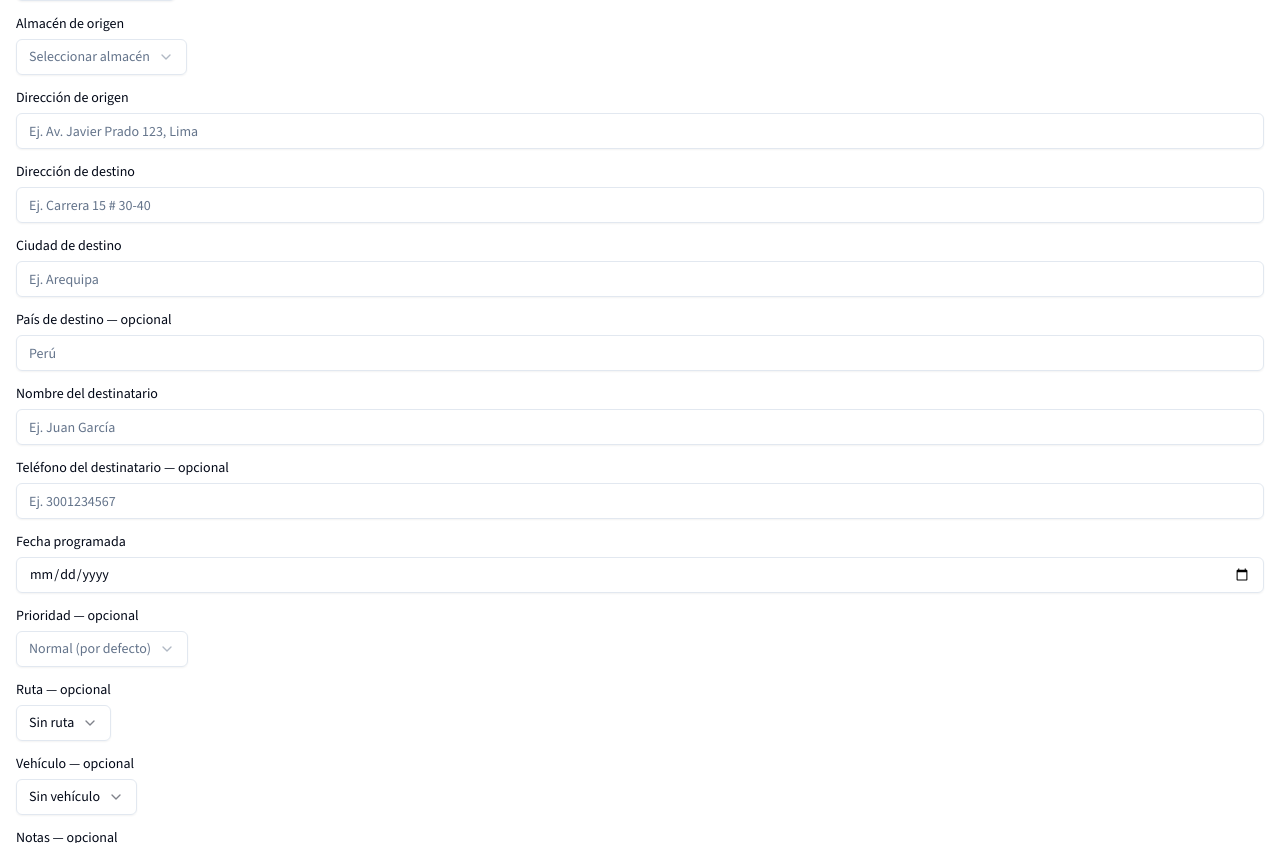
ShipmentCreateForm — validation › shows error when recipient_name is empty on submit
Type "Calle 123" into the field with placeholder "Ej. Av. Javier Prado 123, Lima" at (640, 131), box [16, 113, 1264, 149]
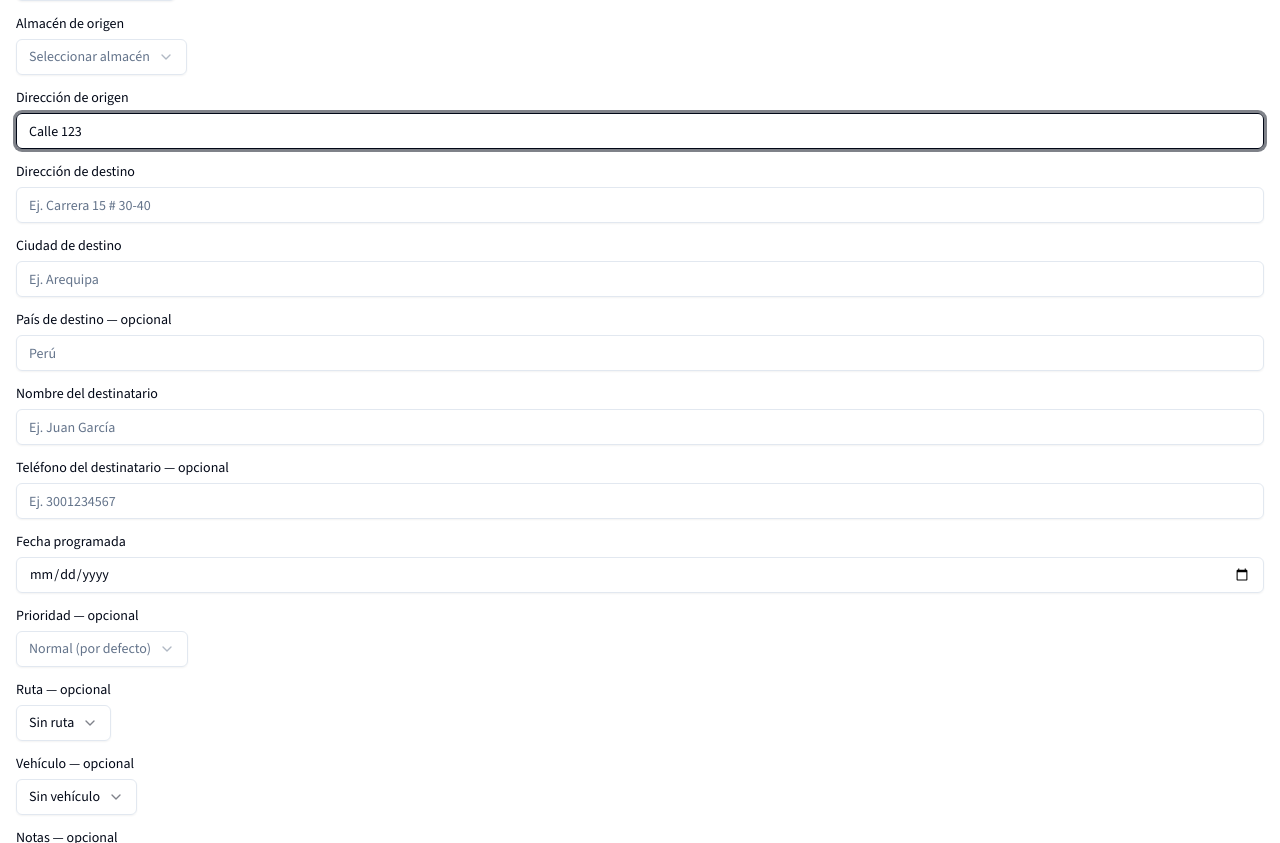
Type "Av. 456" into the field with placeholder "Ej. Carrera 15 # 30-40" at (640, 205), box [16, 187, 1264, 223]
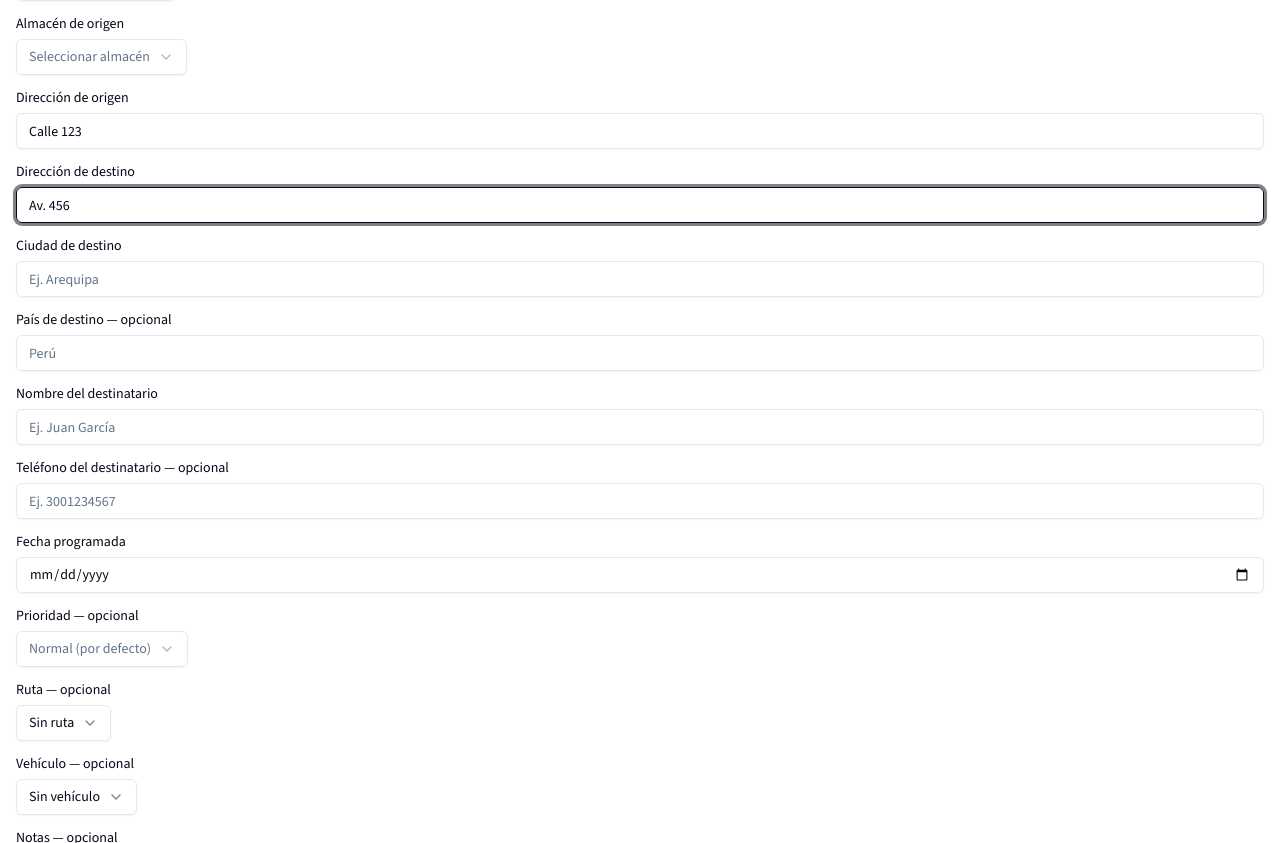
Type "Medellín" into the field with placeholder "Ej. Arequipa" at (640, 279), box [16, 261, 1264, 297]
(page scrolled)
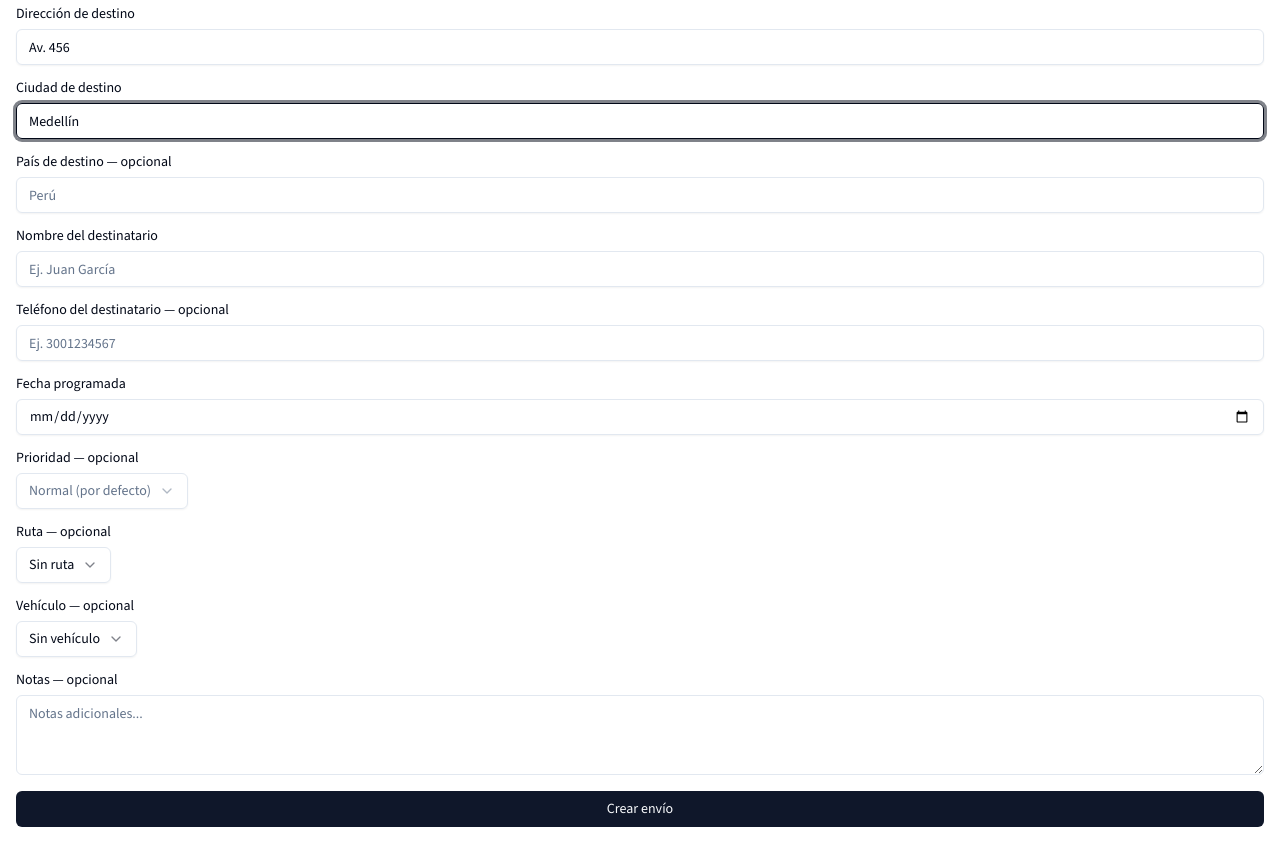
Click the button "Crear envío" at (640, 809), box [16, 791, 1264, 827]
(page scrolled)
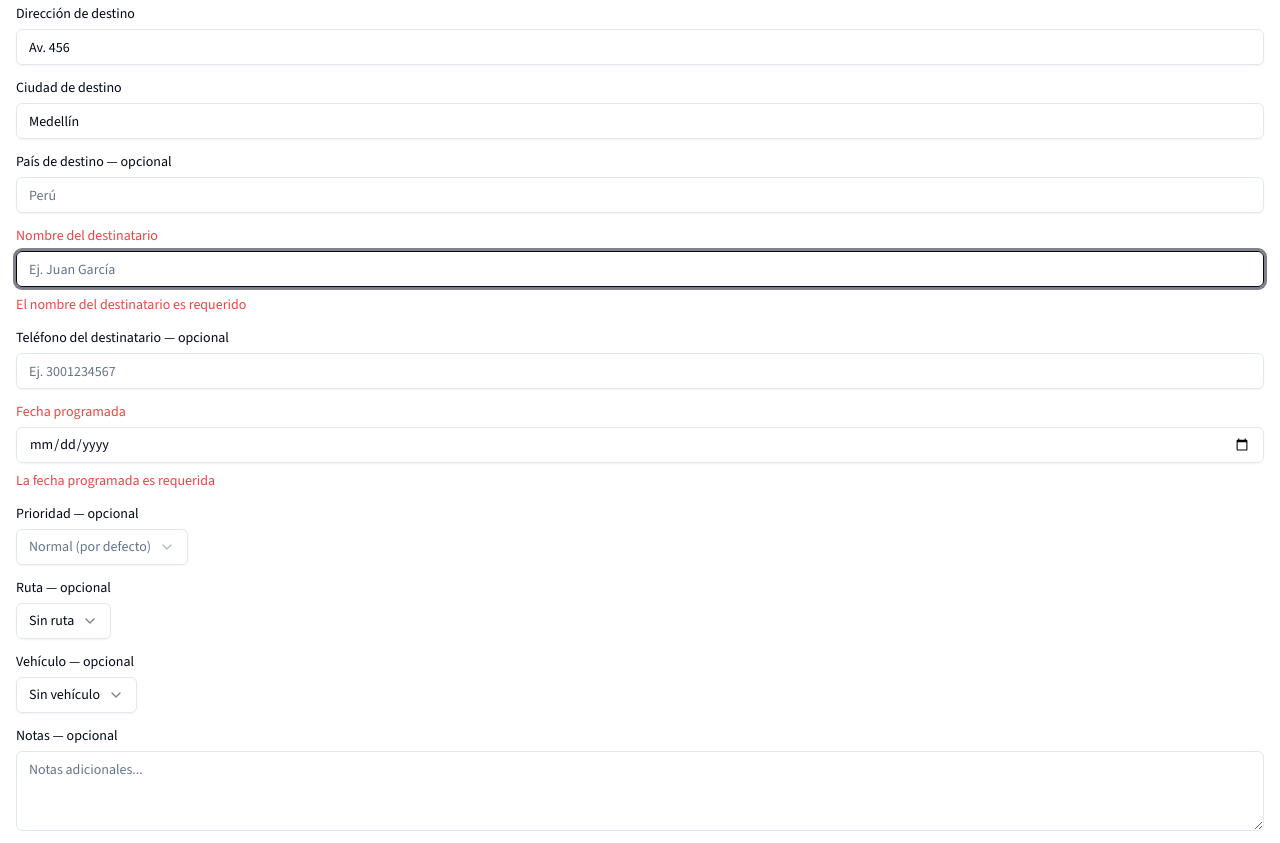
Expected: the text "El nombre del destinatario es requerido" is shown, [16, 295, 246, 314]
